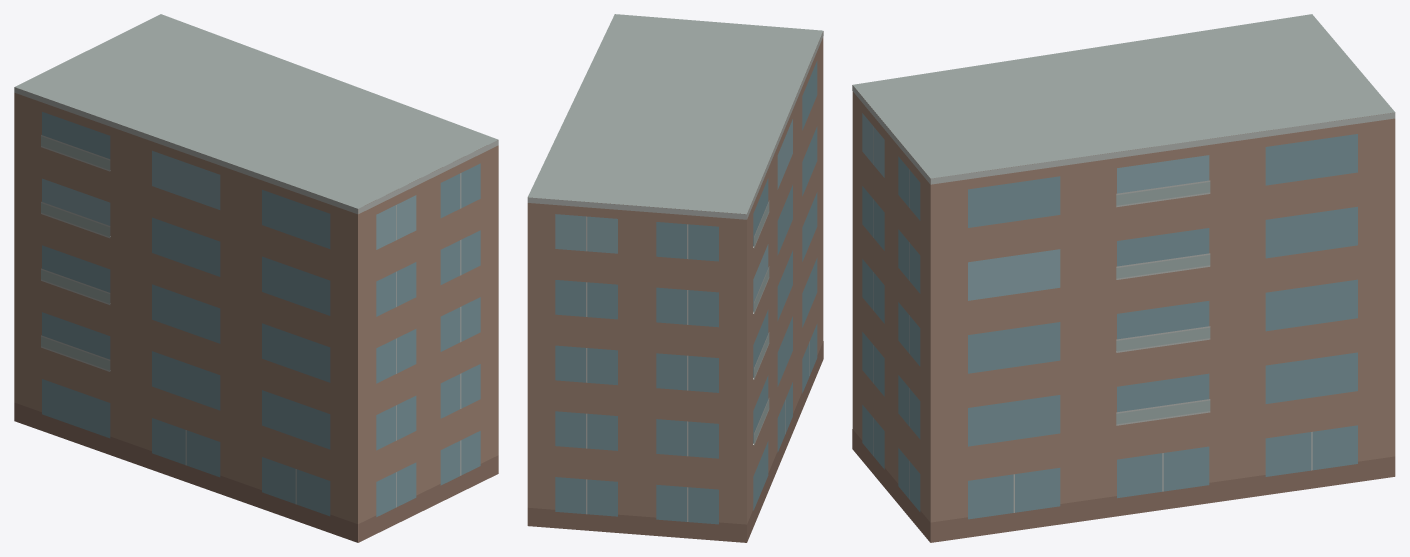
File: survey-upis-32740083.glb
3 renders of one model, left to right at view 1: azimuth 30°, elevation 25°; view 2: azimuth 150°, elevation 25°; view 3: azimuth 270°, elevation 25°, orthographic. The views are drawn at different scales.
Visible parts, largest first — view 1: survey-upis-32740083.tmp; view 2: survey-upis-32740083.tmp; view 3: survey-upis-32740083.tmp.
Part boxes in pixels (x1=…): survey-upis-32740083.tmp: x1=14, y1=14, x2=498, y2=542; survey-upis-32740083.tmp: x1=527, y1=14, x2=823, y2=542; survey-upis-32740083.tmp: x1=852, y1=14, x2=1395, y2=542.
Bounding box in the file's own units: 14.16 × 14.6 × 19.73.
